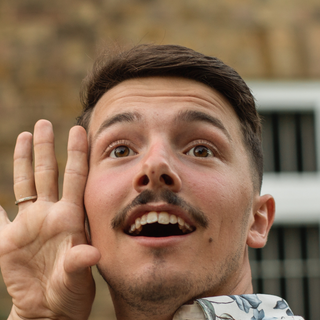eye: (175, 133, 228, 165), (94, 136, 143, 161)
